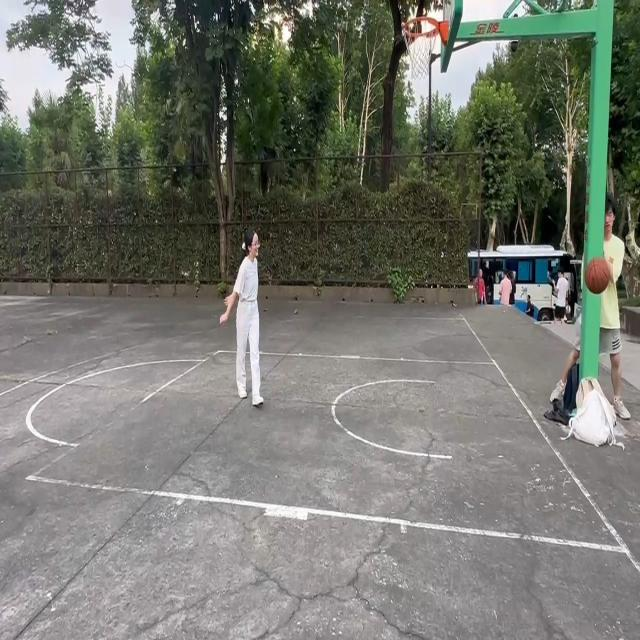basketball: (399, 18, 452, 94)
rim: (587, 259, 612, 294)
